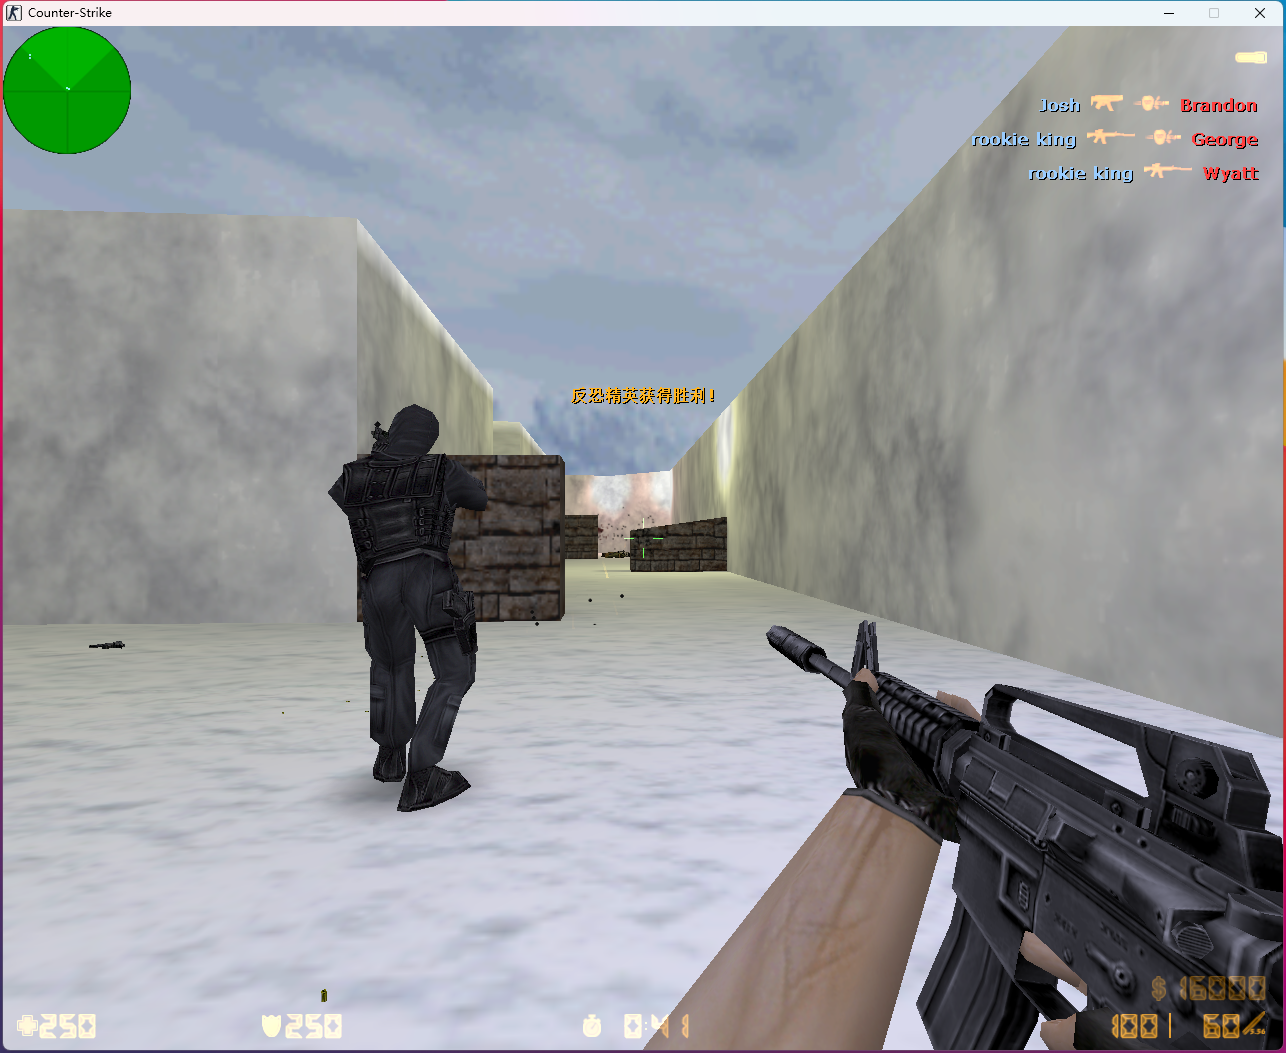C: (331, 402, 488, 817)
dead: (598, 547, 634, 559)
weapon: (74, 640, 138, 653)
